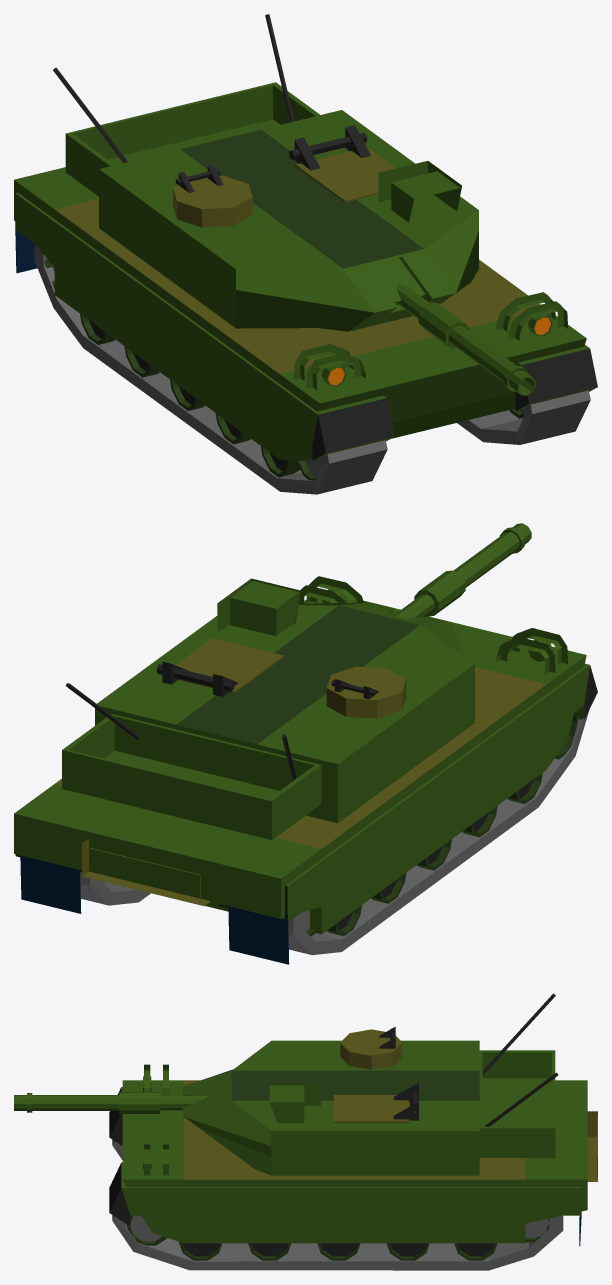
Rendered from zsky-tank.glb.
3 views of the same model, one above another, from view 1: azimuth 30°, elevation 25°; view 2: azimuth 150°, elevation 25°; view 3: azimuth 270°, elevation 25° (orthographic). The views are drawn at different scales.
Visible parts, largest first — view 1: Super_Tank; view 2: Super_Tank; view 3: Super_Tank.
Part boxes in pixels (x1,y1,x2,y2): Super_Tank: (14, 14, 597, 494); Super_Tank: (14, 523, 597, 964); Super_Tank: (14, 993, 597, 1270).
Size of the model in its own units: 1.87 by 1.61 by 4.56.
2 materials, 2 textured.
